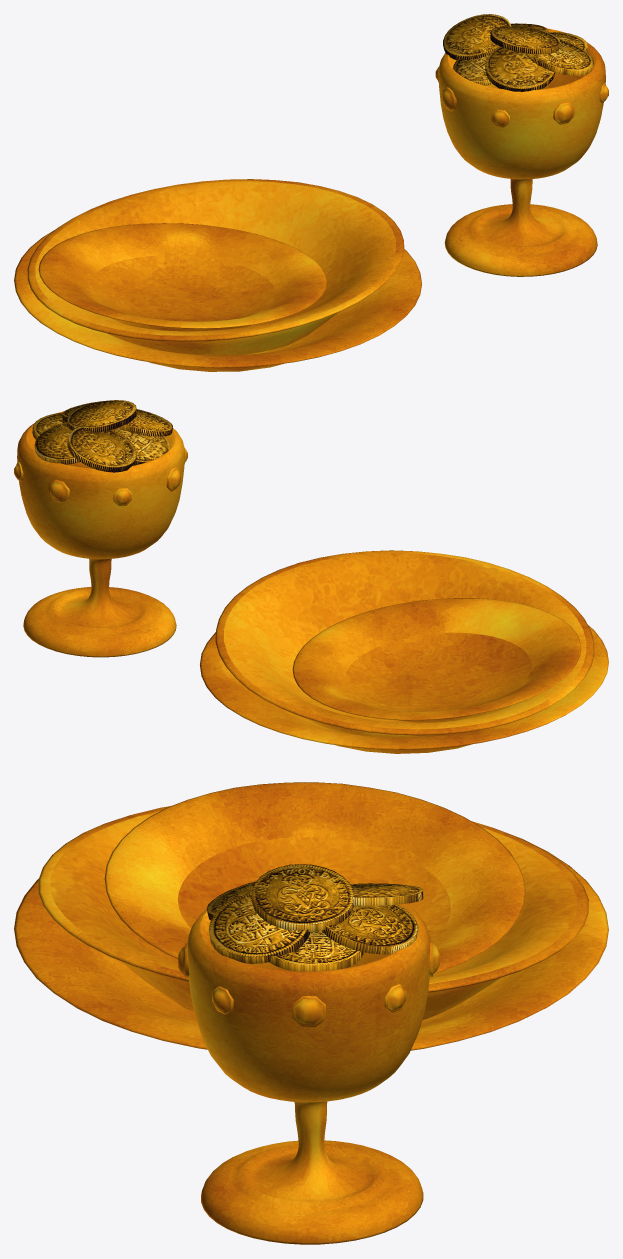
Rendered from crockery.FBX.
3 views of the same model, one above another, from view 1: azimuth 30°, elevation 25°; view 2: azimuth 150°, elevation 25°; view 3: azimuth 270°, elevation 25° (orthographic). The views are drawn at different scales.
Visible parts, largest first — view 1: dishes, crockery1; view 2: dishes, crockery1; view 3: dishes, crockery1.
Boxes of the visible parts, x1=… form: dishes: x1=14, y1=179, x2=421, y2=371; crockery1: x1=435, y1=14, x2=608, y2=276; dishes: x1=200, y1=550, x2=608, y2=753; crockery1: x1=14, y1=400, x2=187, y2=657; dishes: x1=14, y1=782, x2=608, y2=1050; crockery1: x1=178, y1=864, x2=439, y2=1244.
Bounding box in the file's own units: 0.7249 × 0.4594 × 0.2734.
